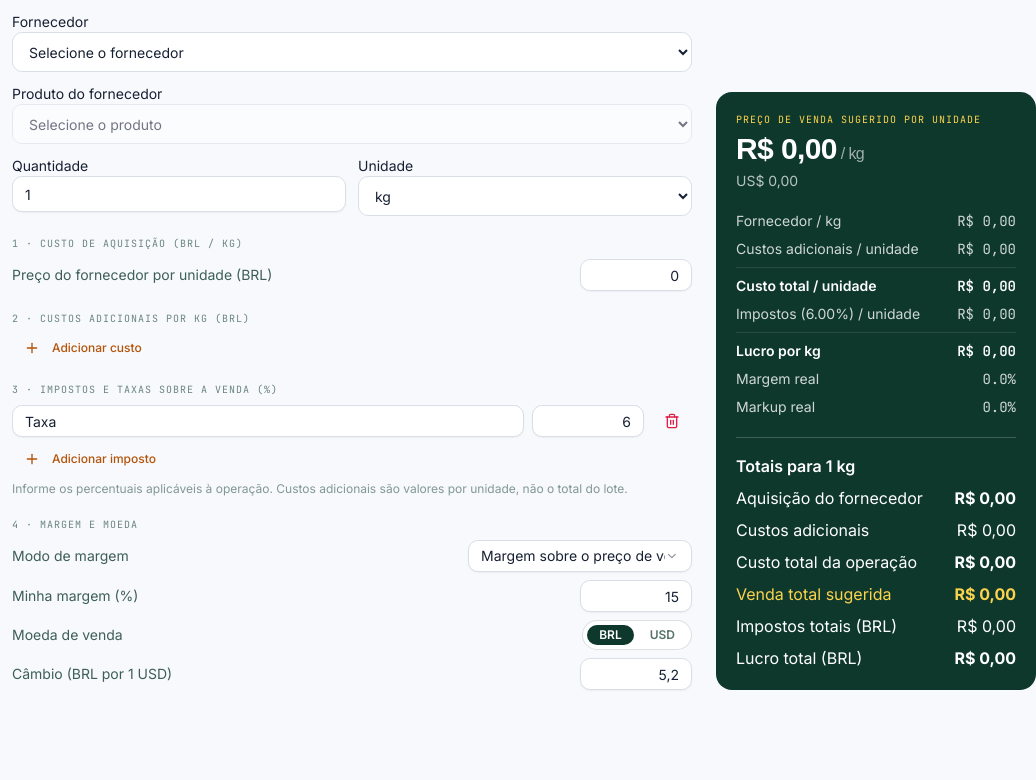
offer loading failure has a retry and empty offers do not show another supplier
Select "Bona Fruit" in the dropdown labelled "Fornecedor" at coordinates (352, 52), box [12, 32, 692, 72]
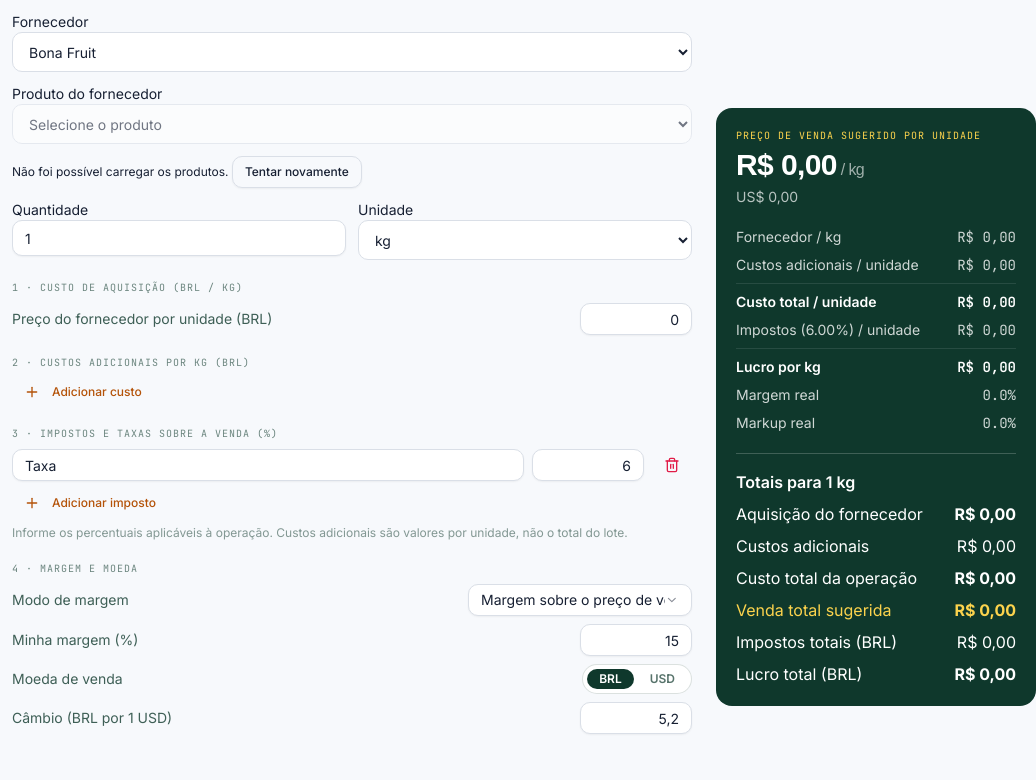
Expected: the button "Tentar novamente" is shown
Click the button "Tentar novamente" at coordinates (297, 172), box [232, 156, 362, 188]
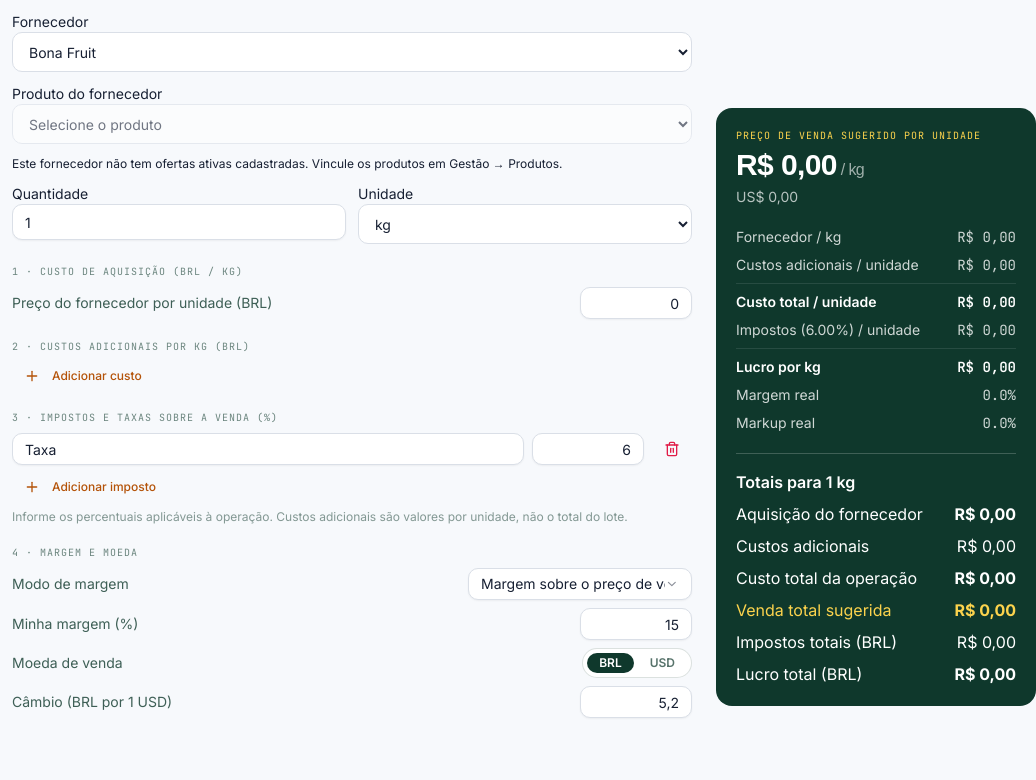
Expected: the dropdown labelled "Produto do fornecedor" is disabled, [12, 104, 692, 144]
Expected: the text "não tem ofertas ativas" is shown, [12, 156, 562, 171]
